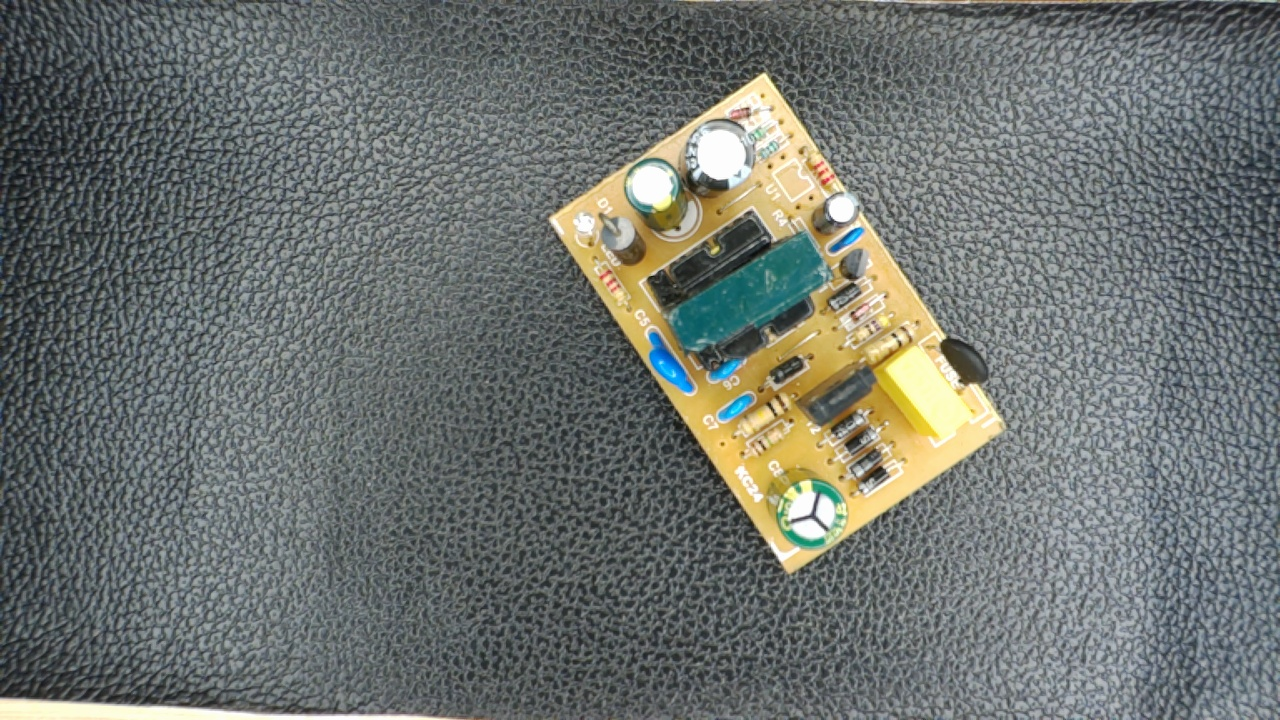fuse: (920, 326, 992, 399)
hv_capacitor: (765, 465, 851, 551)
mov: (639, 323, 699, 401)
